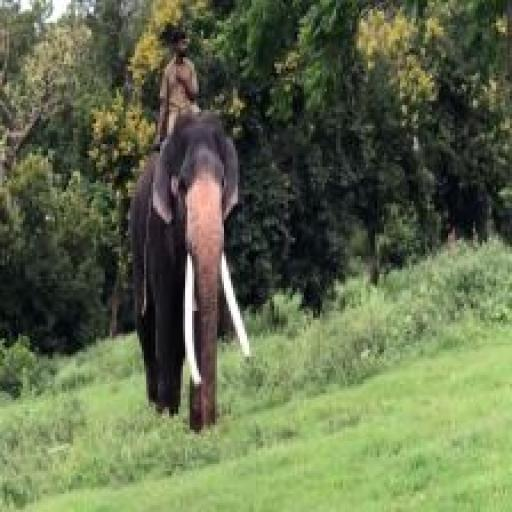Elephant: (121, 103, 256, 435)
